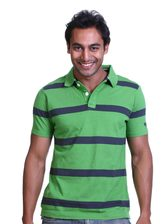clothoes: (28, 63, 150, 218)
